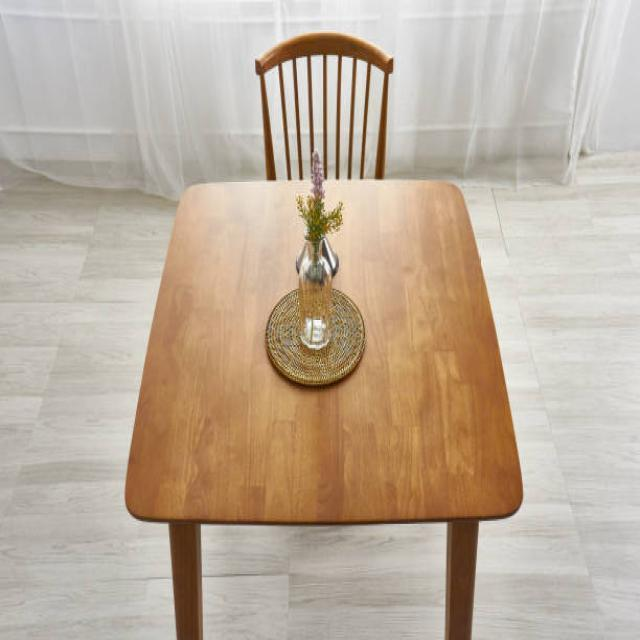table: (123, 176, 523, 637)
